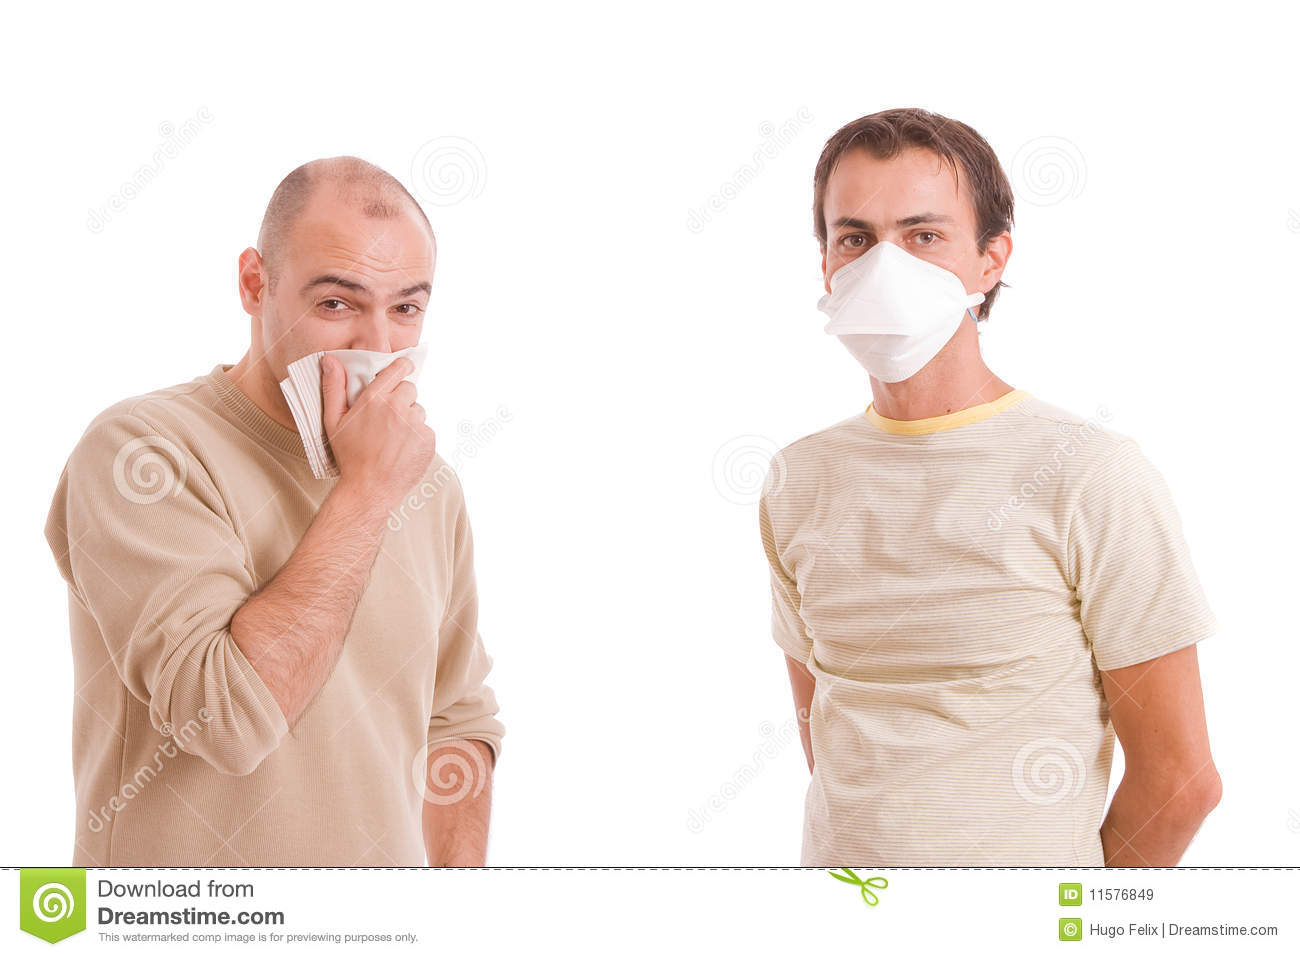mask: (827, 249, 972, 386)
